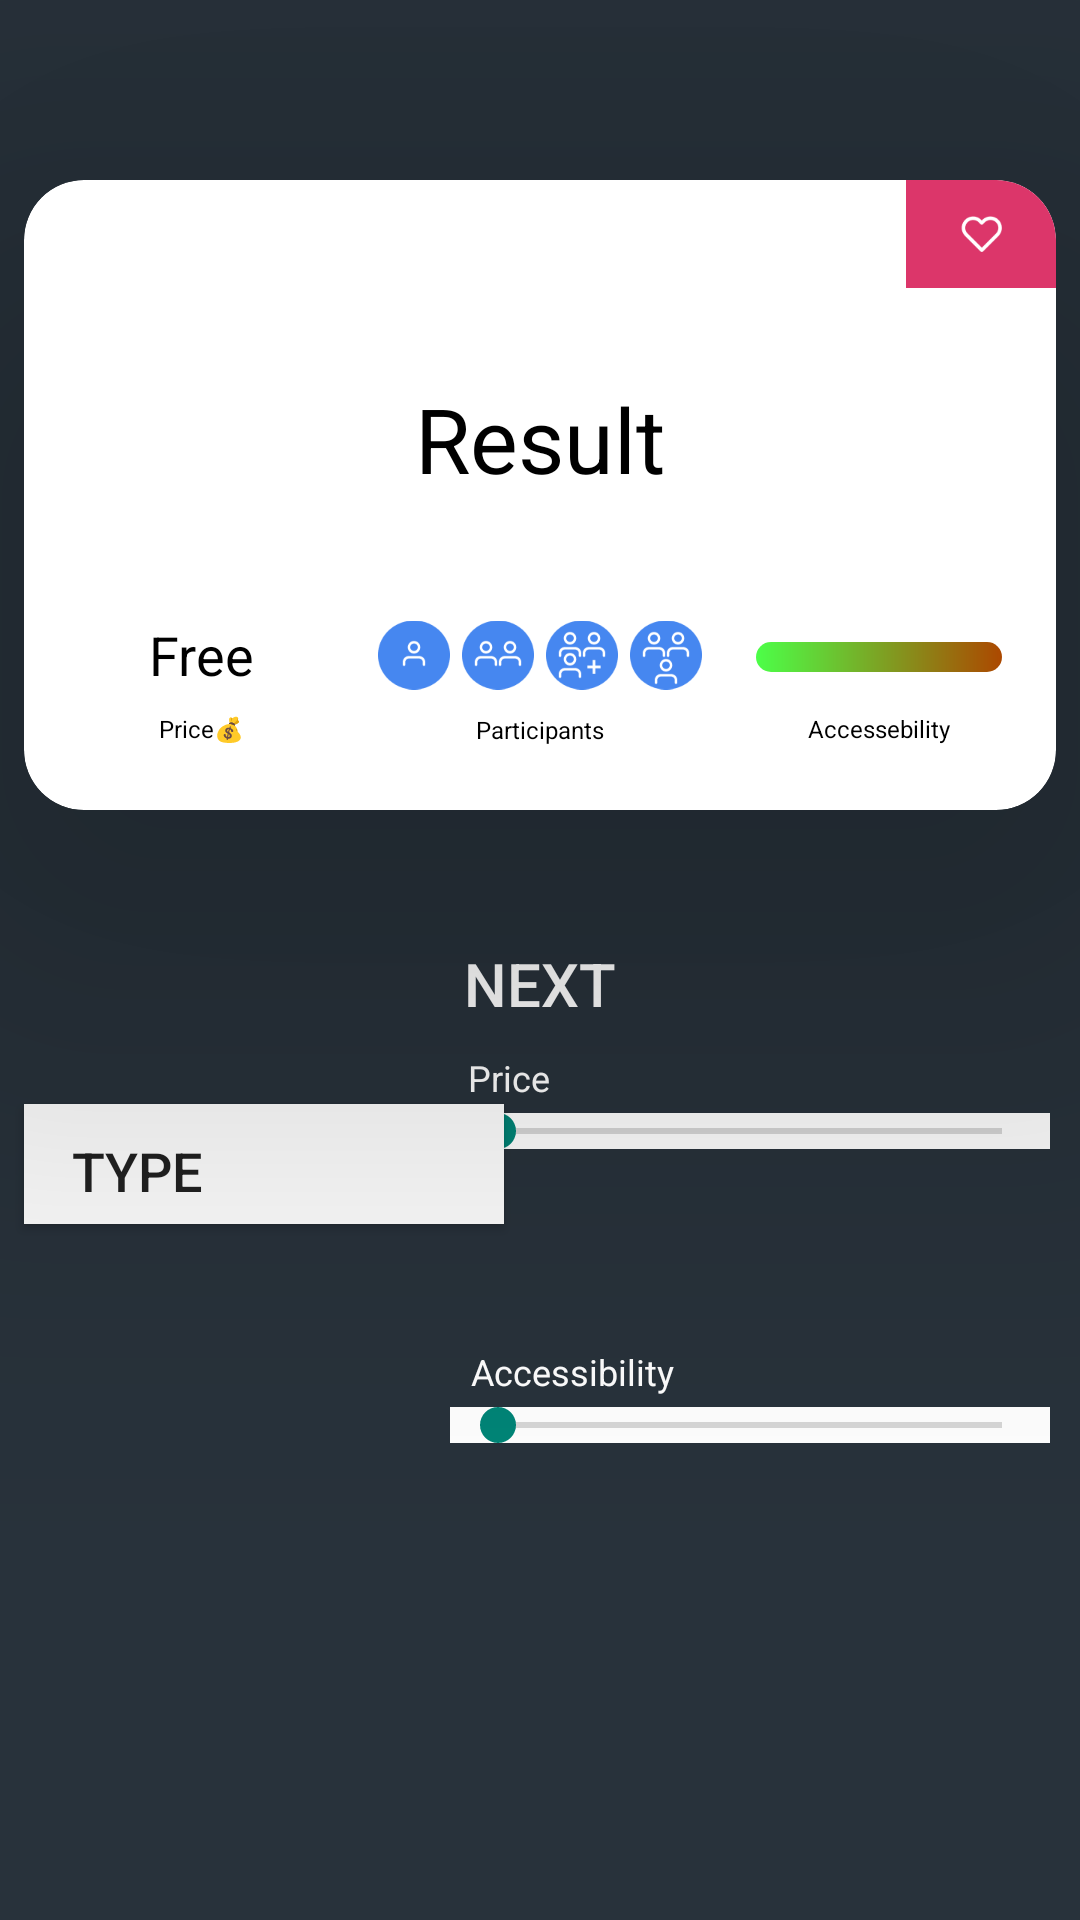

Named icons in this screenshot (1080×1920) and their centers, (x=x, y=y):
heart: (x=981, y=234)
user: (x=414, y=655)
users: (x=498, y=655), (x=582, y=655), (x=666, y=655)
